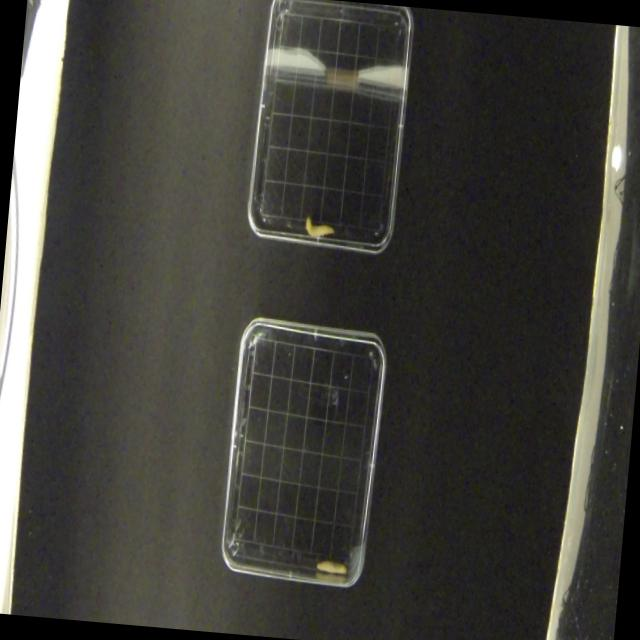larva: (313, 545, 351, 579), (303, 214, 335, 240)
